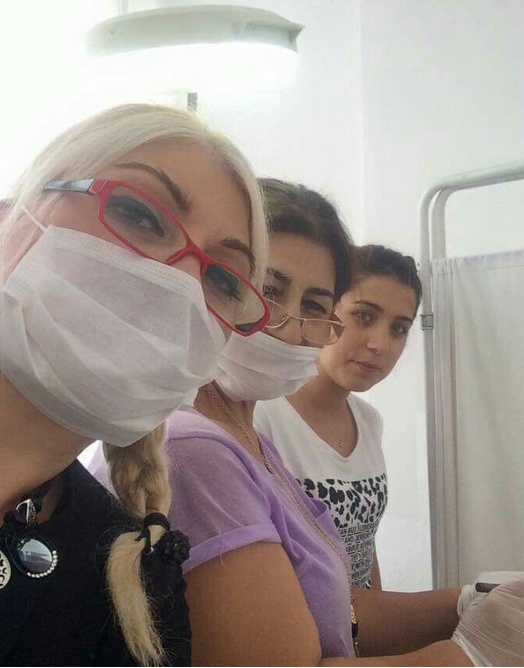mouth: (350, 355, 384, 375)
nose: (270, 332, 304, 346), (368, 340, 391, 353)
